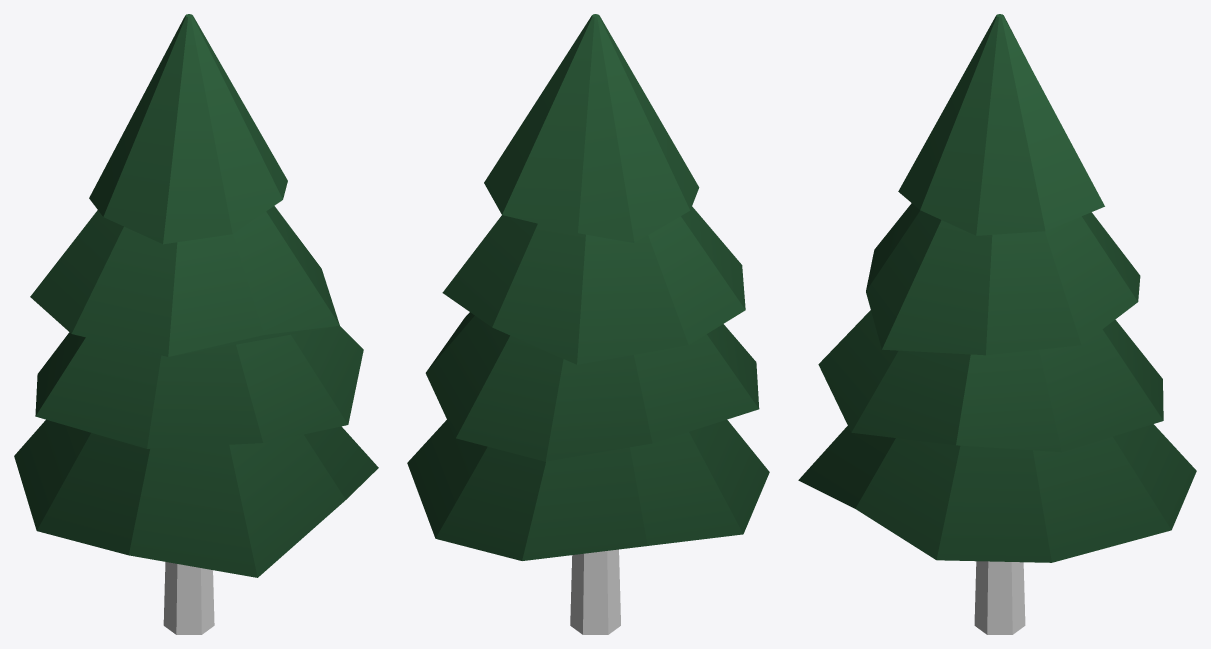
Rendered from pine_a.glb.
3 renders of one model, left to right at view 1: azimuth 30°, elevation 25°; view 2: azimuth 150°, elevation 25°; view 3: azimuth 270°, elevation 25°, orthographic.
Visible parts, largest first — view 1: Canopy_deco, Trunk; view 2: Canopy_deco, Trunk; view 3: Canopy_deco, Trunk.
Boxes of the visible parts, x1,y1,x2,y2 form: Canopy_deco: [14, 14, 378, 577]; Trunk: [163, 562, 214, 634]; Canopy_deco: [407, 14, 769, 560]; Trunk: [570, 549, 620, 634]; Canopy_deco: [798, 14, 1196, 562]; Trunk: [974, 561, 1025, 634].
Bounding box in the file's own units: 3.79 × 6.87 × 4.07.
